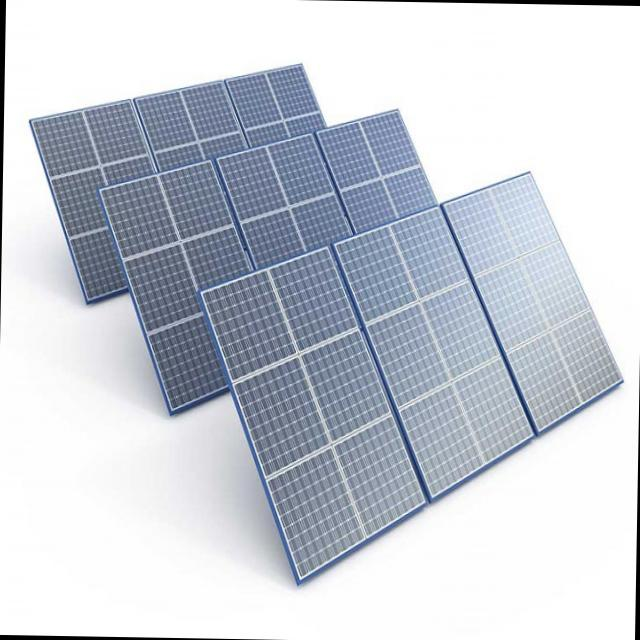no faulty: (202, 176, 617, 584), (100, 115, 431, 414), (33, 60, 330, 302)
